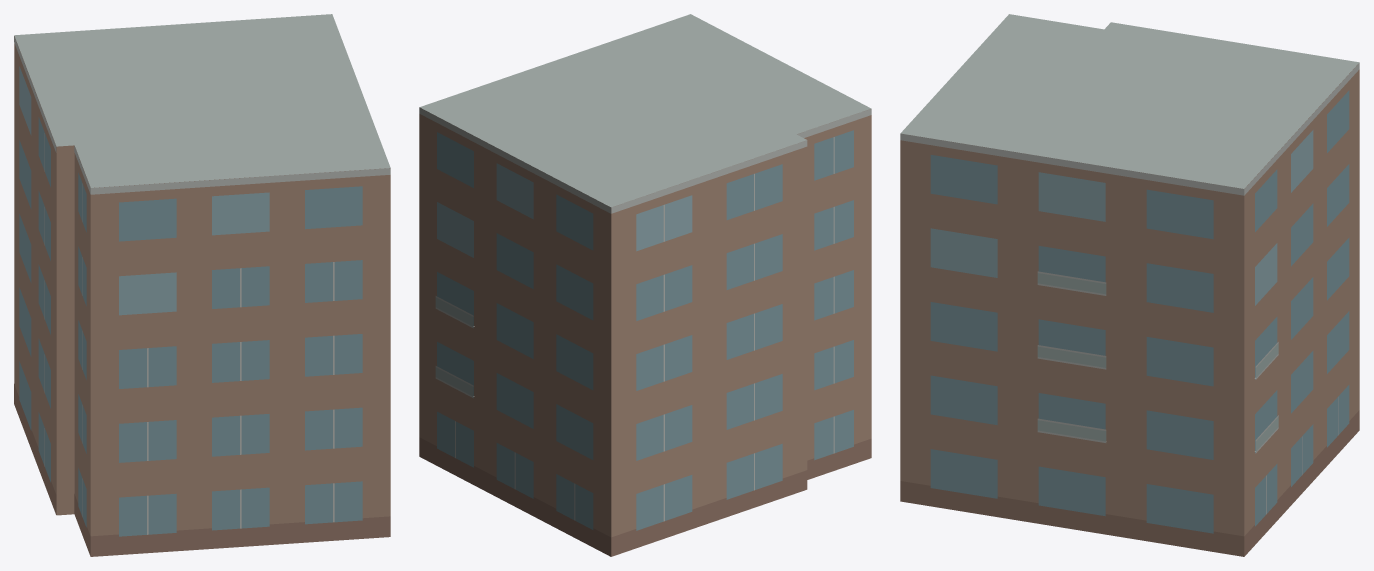
The model's file is survey-upis-32877216.glb.
The picture shows the model from 3 angles, left to right: view 1: azimuth 30°, elevation 25°; view 2: azimuth 150°, elevation 25°; view 3: azimuth 270°, elevation 25°; orthographic projection. The views are drawn at different scales.
Visible parts, largest first — view 1: survey-upis-32877216.tmp; view 2: survey-upis-32877216.tmp; view 3: survey-upis-32877216.tmp.
Part boxes in pixels (left/top/right/bottom): survey-upis-32877216.tmp: left=14, top=14, right=390, bottom=556; survey-upis-32877216.tmp: left=419, top=14, right=871, bottom=556; survey-upis-32877216.tmp: left=900, top=14, right=1359, bottom=556.
Size of the model in its own units: 13.57 by 13.3 by 15.06.
